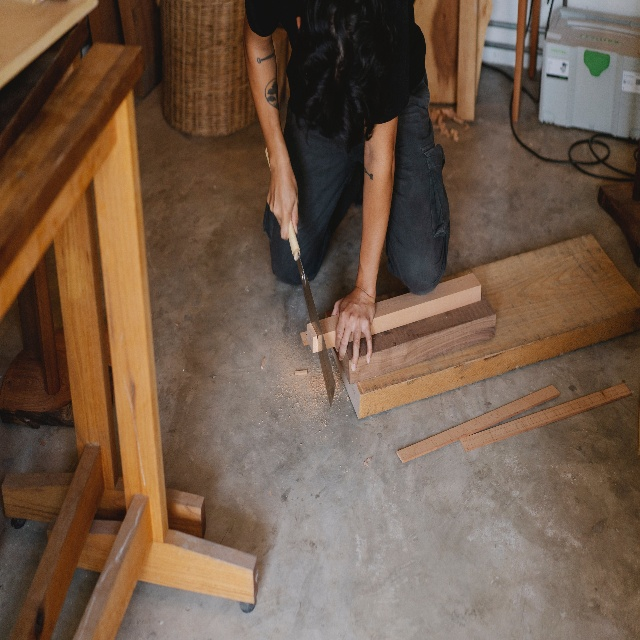Sin_guantes: (331, 289, 376, 372), (267, 159, 299, 241)
